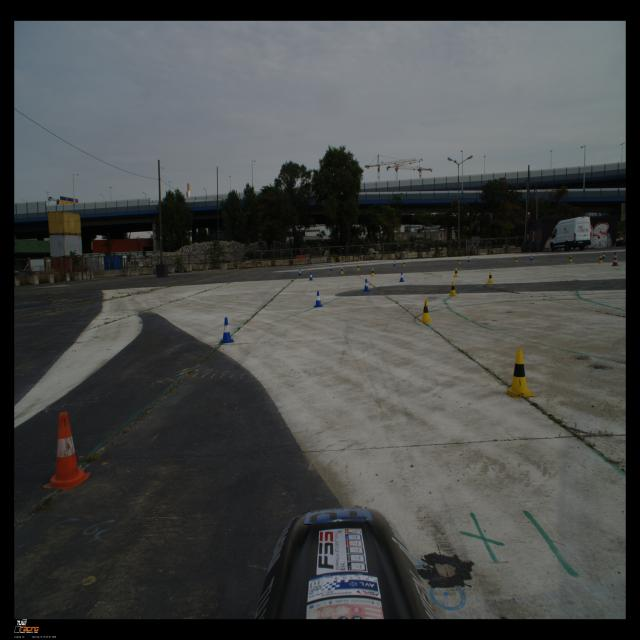blue_cone: (220, 317, 234, 343), (313, 291, 323, 307), (363, 278, 370, 292), (399, 272, 405, 282), (309, 272, 313, 280), (298, 269, 302, 276), (602, 253, 606, 259), (529, 255, 533, 260), (393, 261, 396, 266), (467, 257, 470, 262), (330, 265, 332, 271)
large_orange_cone: (611, 252, 619, 266)
orange_cone: (42, 412, 91, 491)
yellow_cone: (503, 349, 535, 398), (420, 300, 432, 322), (448, 281, 458, 297), (488, 272, 493, 284), (453, 268, 459, 277), (370, 268, 375, 276), (568, 255, 573, 262), (598, 256, 603, 263), (340, 267, 344, 274), (356, 264, 360, 271), (514, 256, 518, 263), (402, 261, 406, 267), (457, 258, 461, 264)
